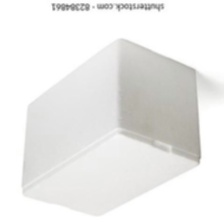foam_box: (15, 35, 205, 220)
